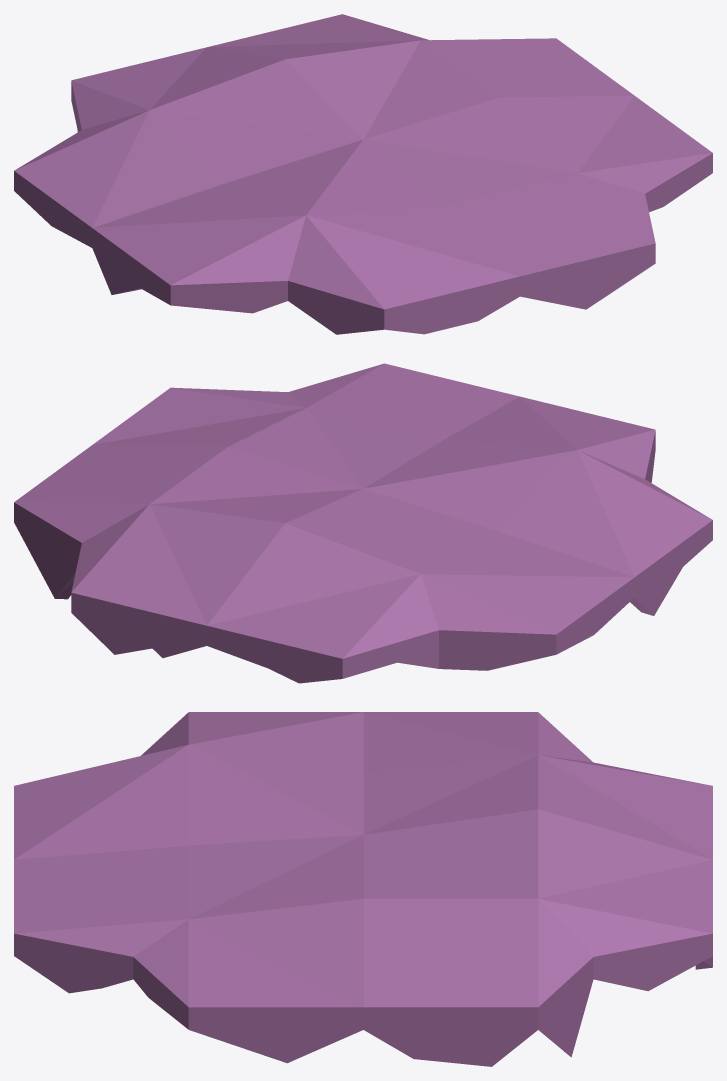
Rendered from TilePickUp.fbx.
3 views of the same model, one above another, from view 1: azimuth 30°, elevation 25°; view 2: azimuth 150°, elevation 25°; view 3: azimuth 270°, elevation 25° (orthographic). The views are drawn at different scales.
Parts seen in each view (by area): view 1: pCube1; view 2: pCube1; view 3: pCube1.
Part boxes in pixels (left/top/right/bottom): pCube1: left=14, top=14, right=712, bottom=334; pCube1: left=14, top=363, right=712, bottom=683; pCube1: left=14, top=712, right=712, bottom=1066.
Size of the model in its own units: 1.05 by 0.2175 by 1.05.
